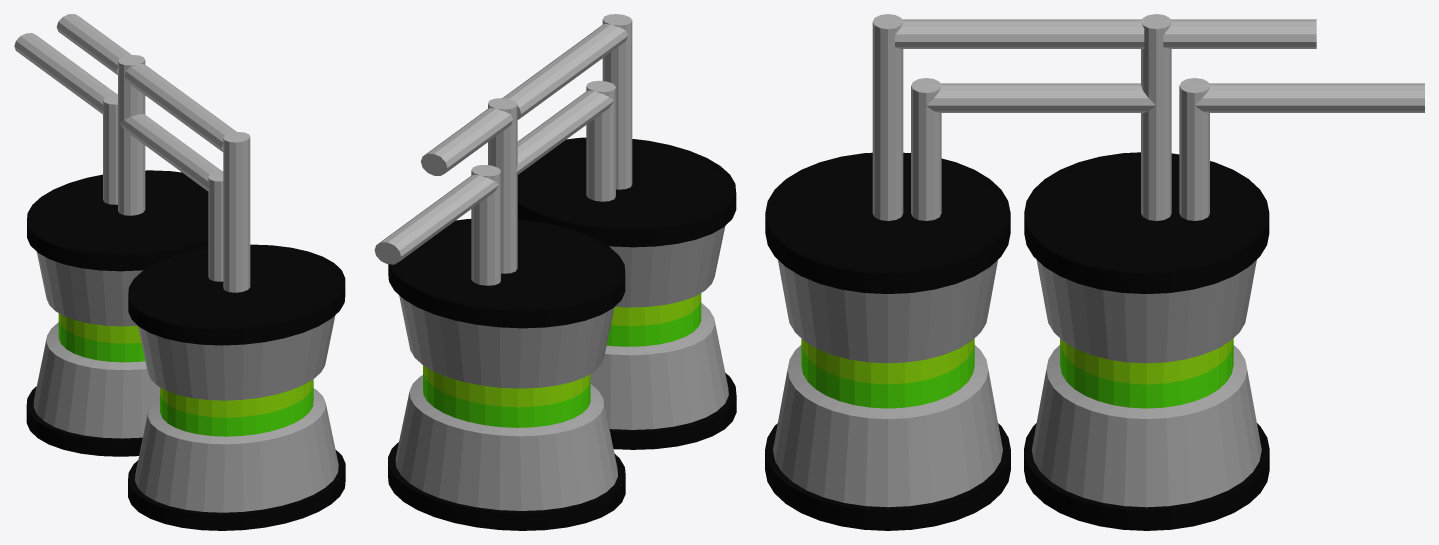
Rendered from reaktor.fbx.
3 renders of one model, left to right at view 1: azimuth 30°, elevation 25°; view 2: azimuth 150°, elevation 25°; view 3: azimuth 270°, elevation 25°, orthographic. The views are drawn at different scales.
Parts seen in each view (by area): view 1: Silindir.023; view 2: Silindir.023; view 3: Silindir.023.
Part boxes in pixels (x1=…): Silindir.023: x1=14, y1=14, x2=345, y2=530; Silindir.023: x1=374, y1=14, x2=736, y2=530; Silindir.023: x1=765, y1=14, x2=1424, y2=530.
Bounding box in the file's own units: 350 × 600 × 800.
